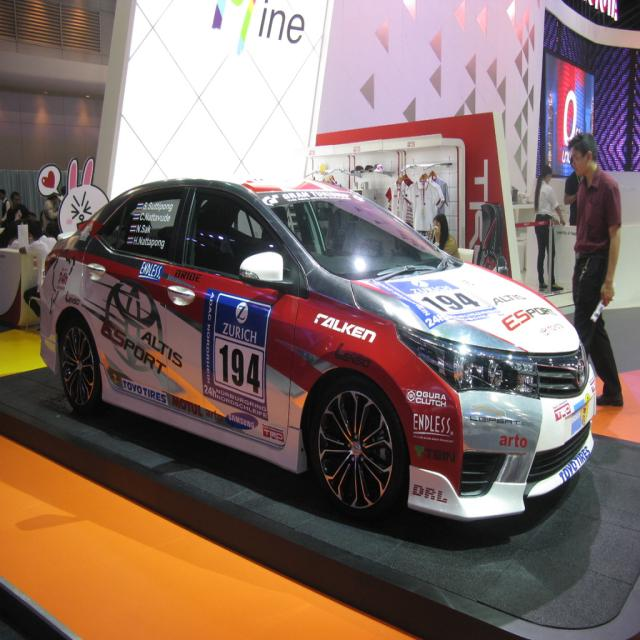car: (24, 169, 608, 534)
